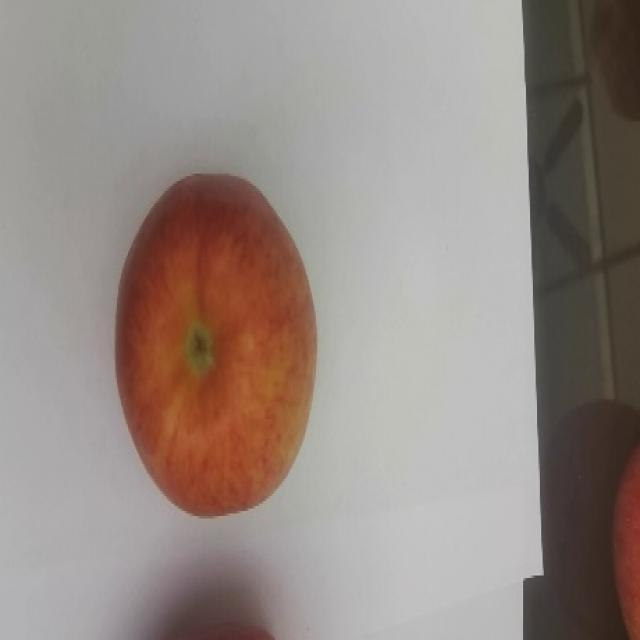Apple: (113, 171, 317, 517)
